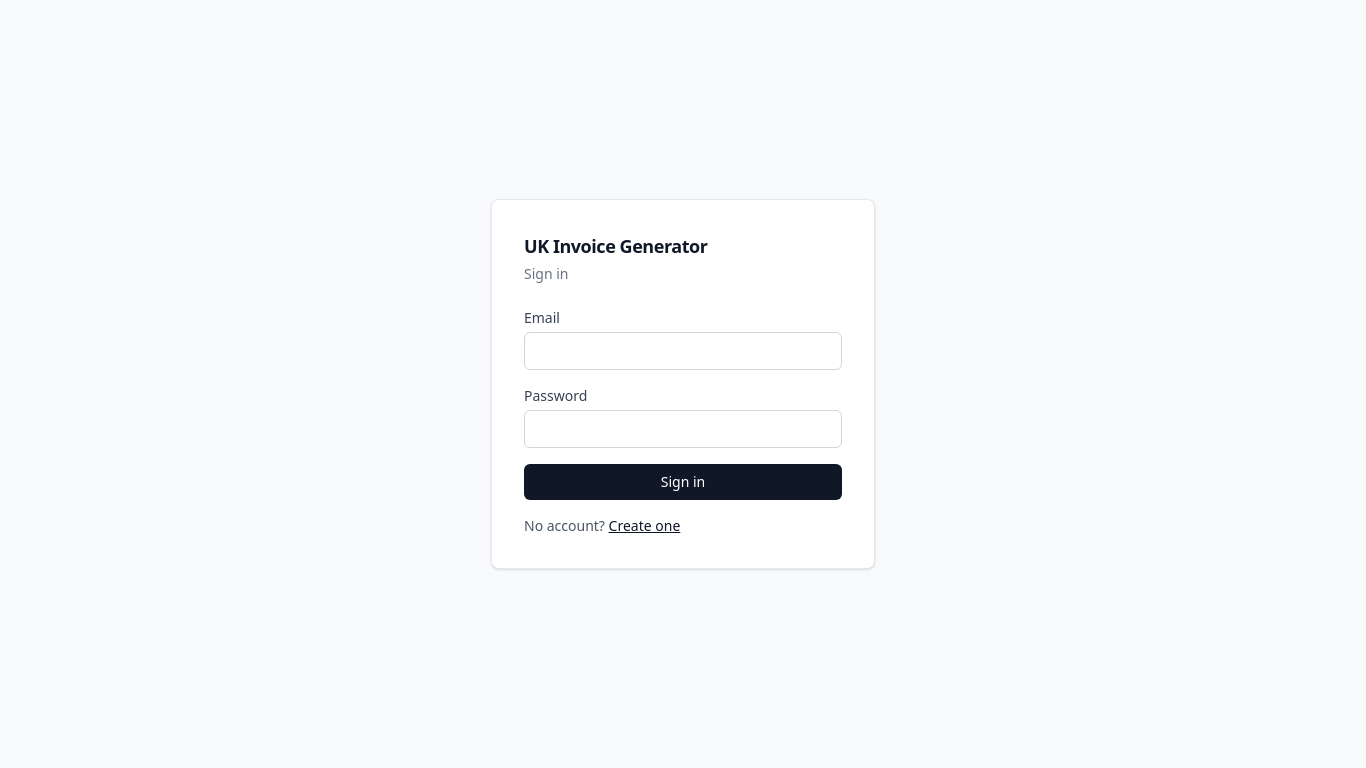
Test: login form › lands the user in the app after a successful sign-in
Type "owner@example.com" into the field labelled "Email".
click(683, 351); type("owner@example.com")  # box [524,332,842,370]
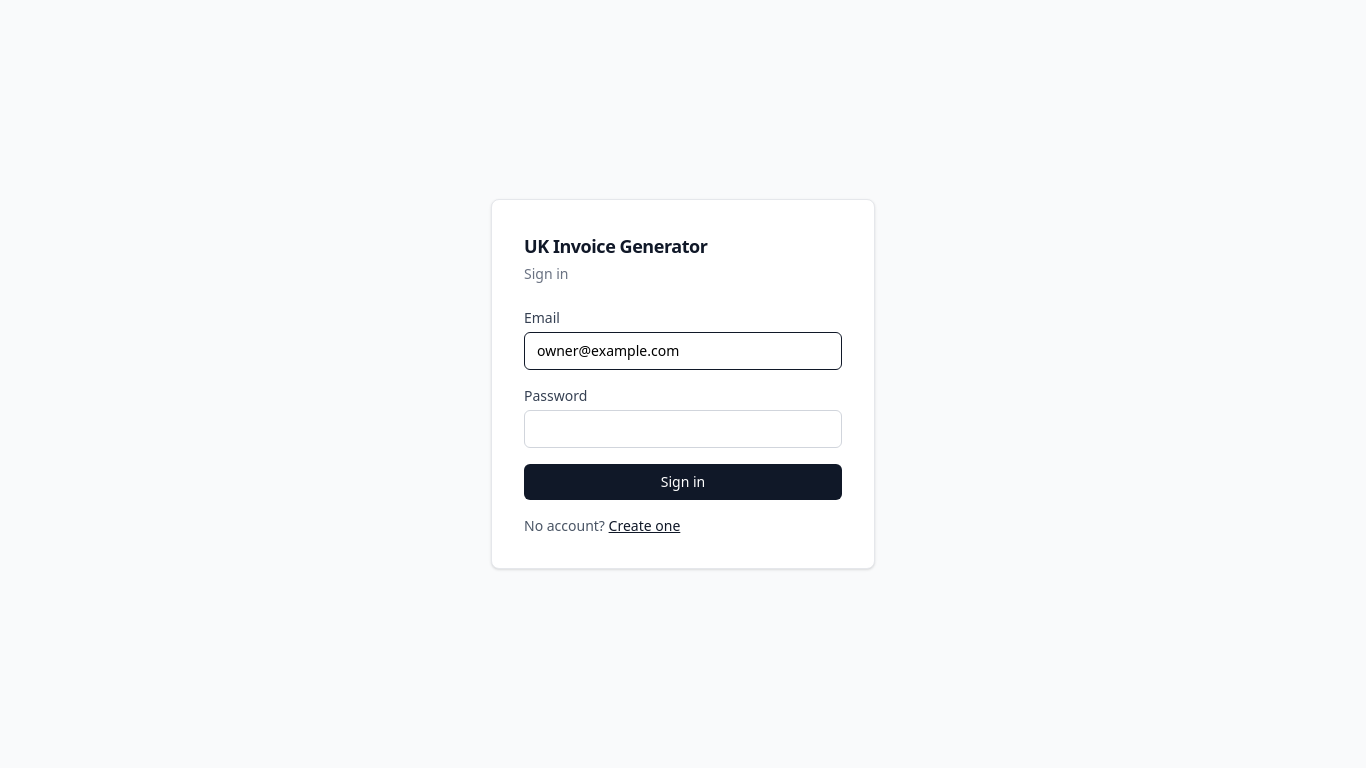
Type "password123" into the password field labelled "Password".
click(683, 429); type("password123")  # box [524,410,842,448]
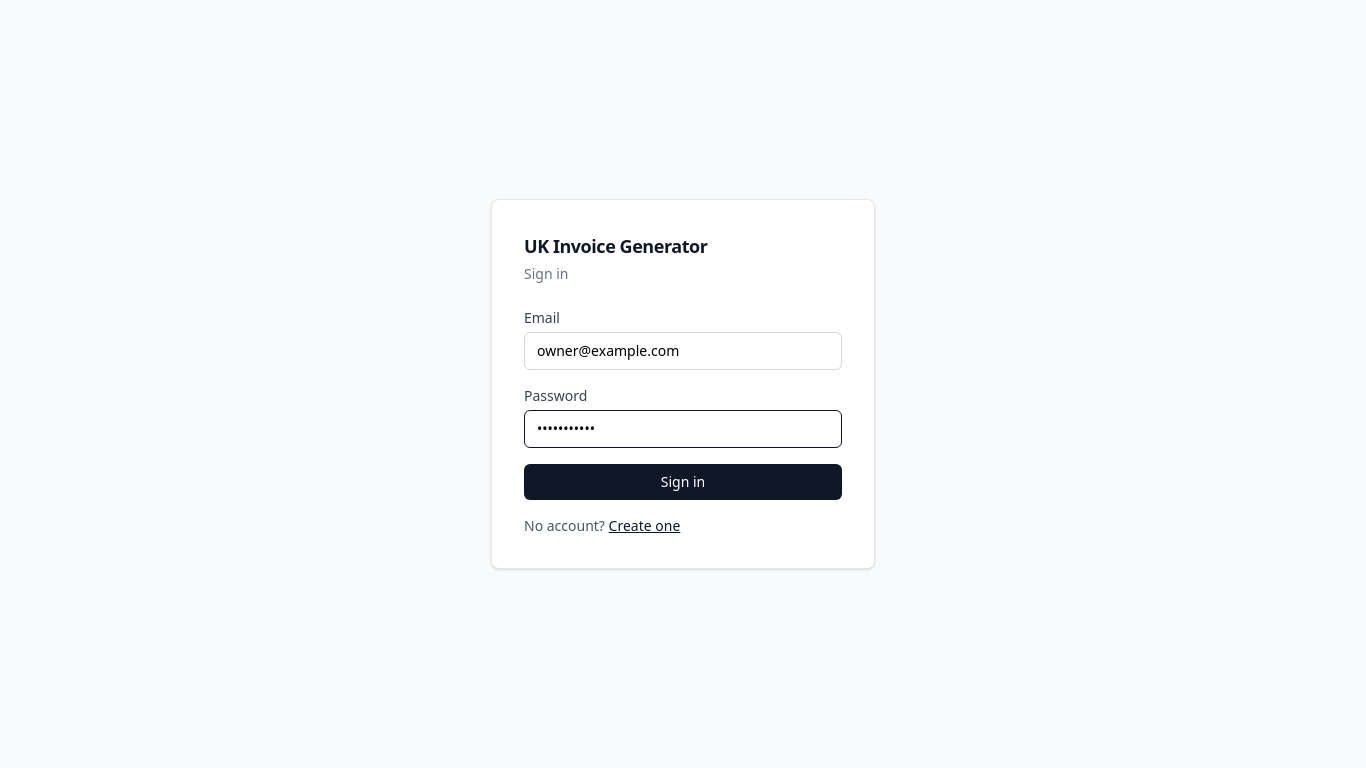
Click the button "Sign in".
click(683, 482)  # box [524,464,842,500]
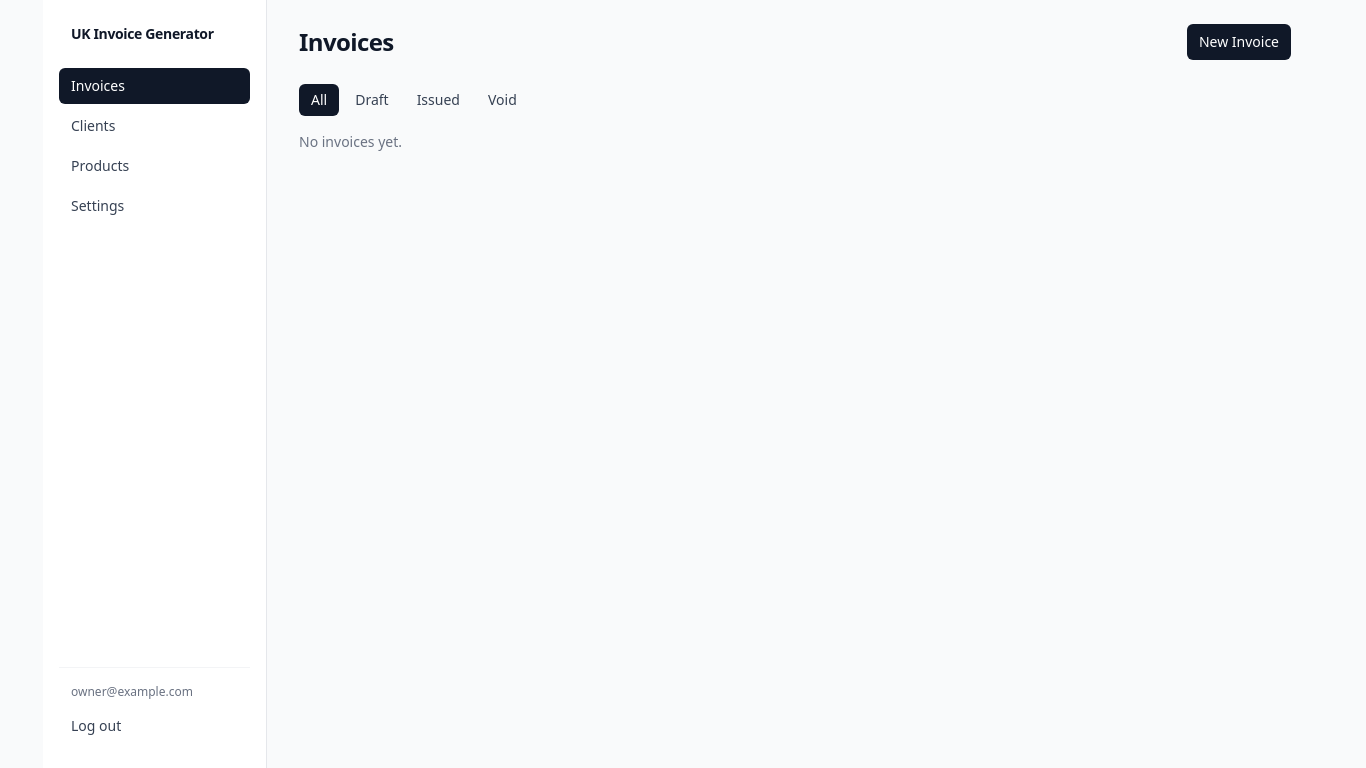
Check: the text "owner@example.com" is shown, box [71,683,193,700]
